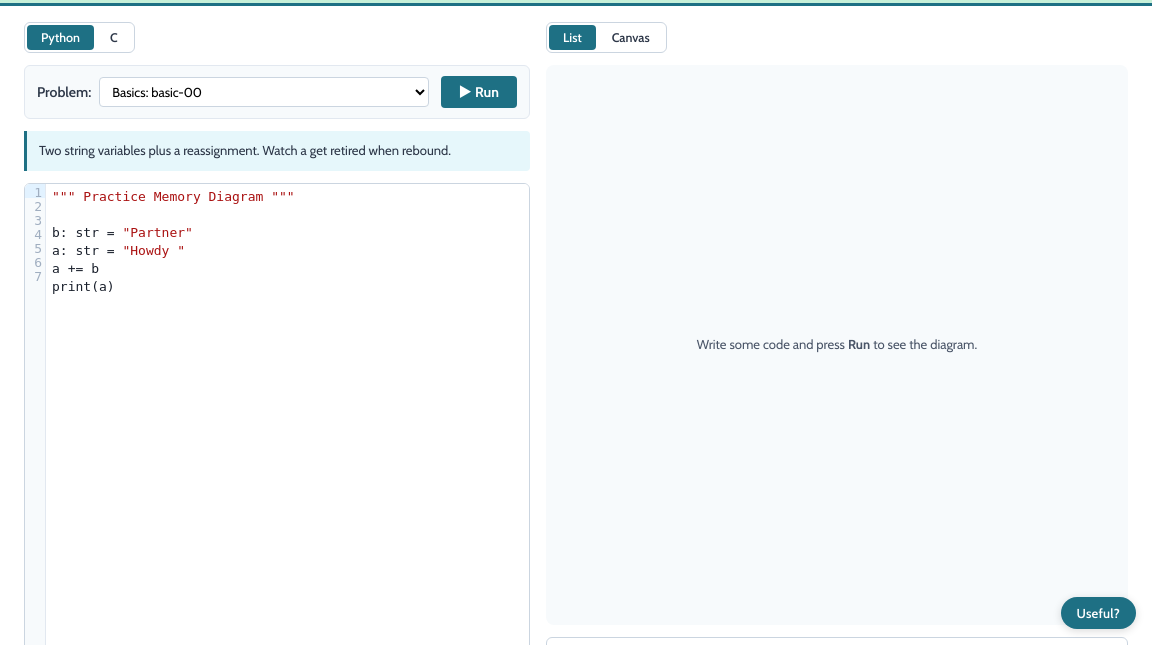
Scenario: App UX — Run flow and Prev/Next bounds › stepping to the end disables Next; Prev is enabled
This screenshot has width=1152, height=645.
Click the button "▶ Run".
click(479, 92)  # box left=440, top=76, right=517, bottom=108
(page scrolled)
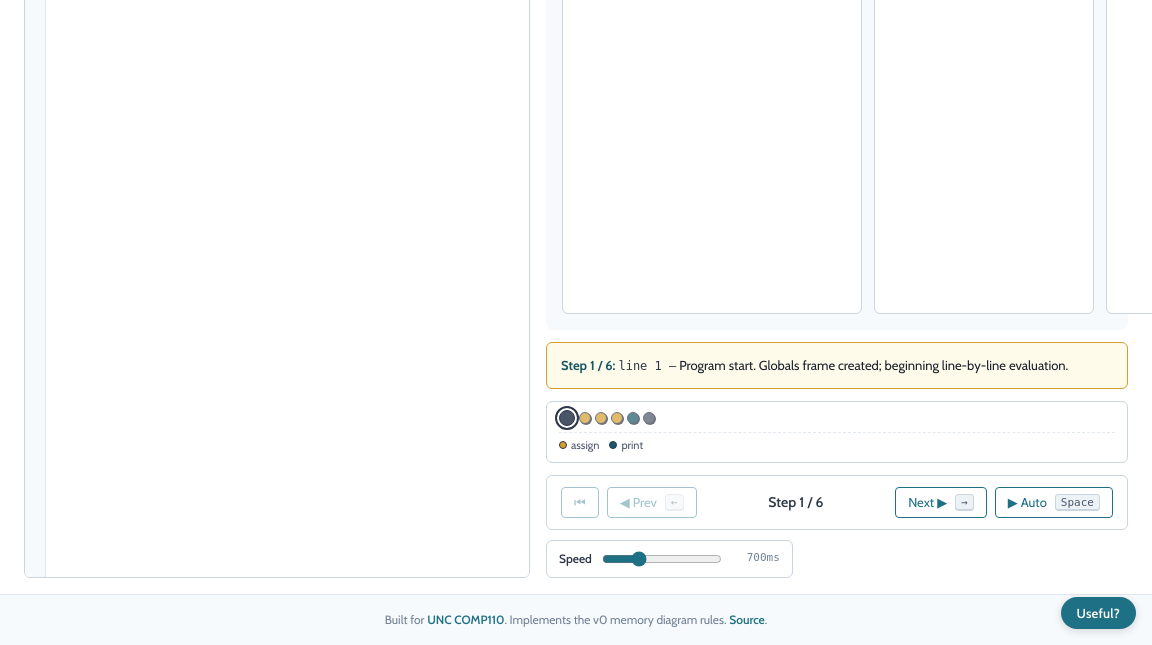
Click the button "Next ▶ →".
click(941, 502)  # box left=895, top=487, right=987, bottom=518
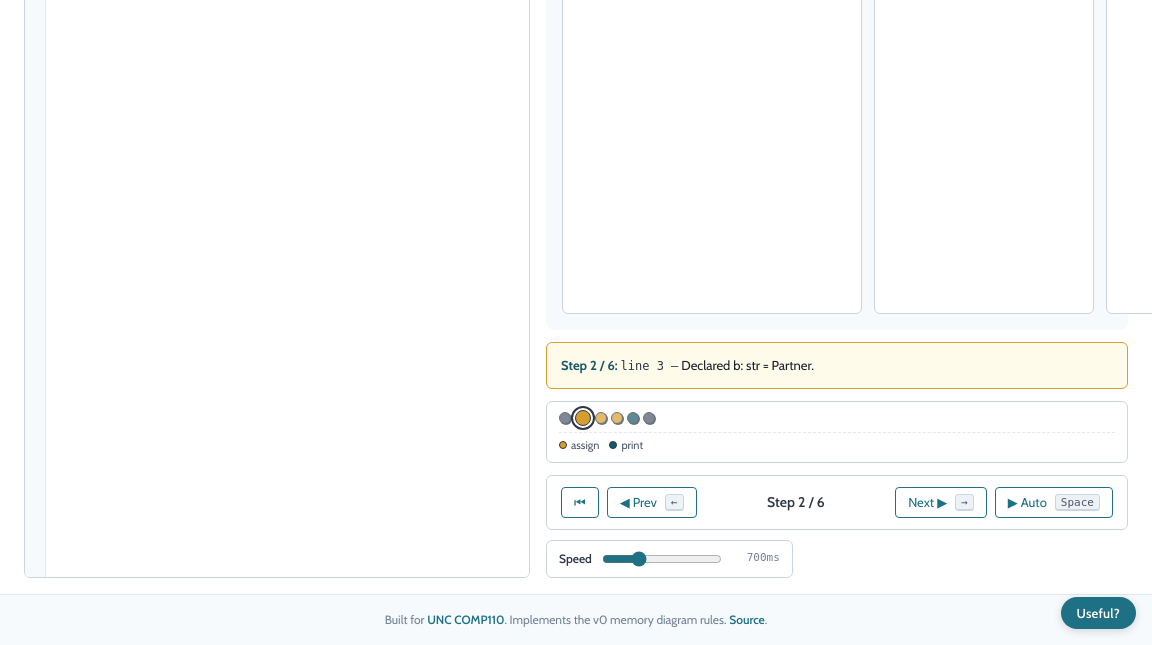
Click the button "Next ▶ →".
click(941, 502)  # box left=895, top=487, right=987, bottom=518
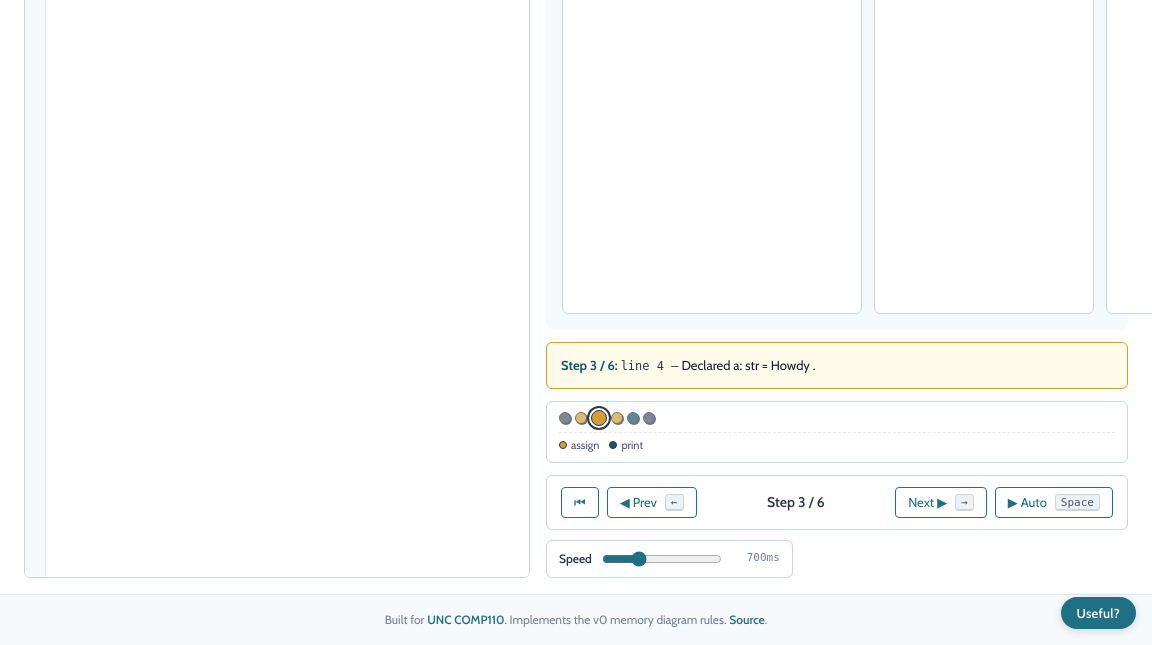
Click the button "Next ▶ →".
click(941, 502)  # box left=895, top=487, right=987, bottom=518
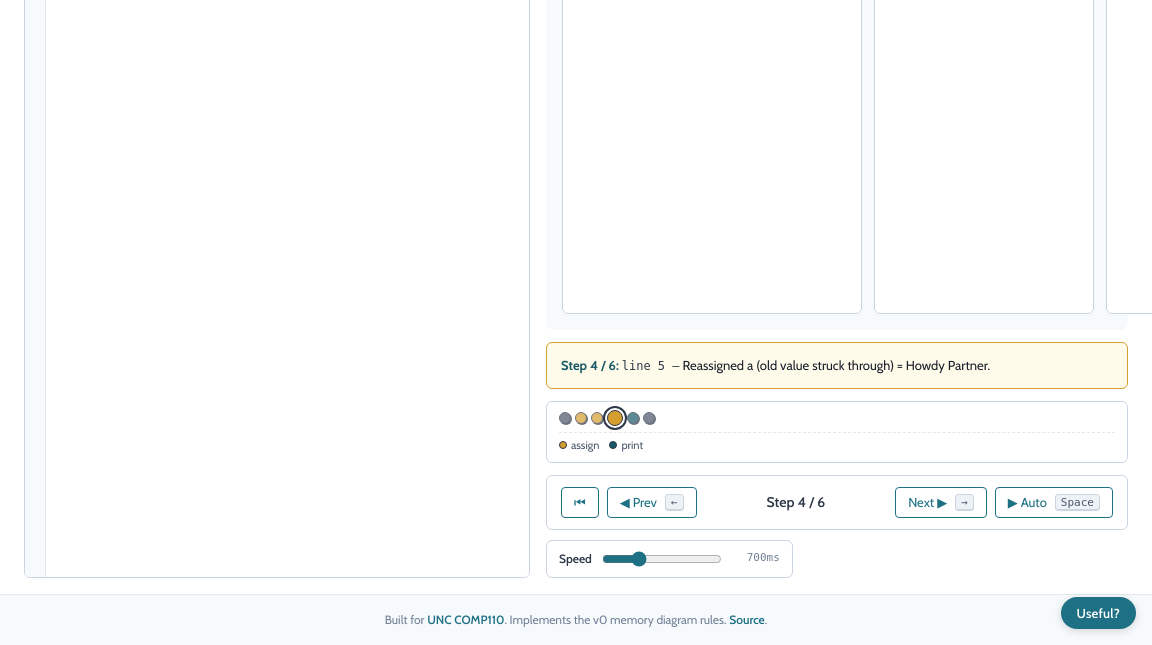
Click the button "Next ▶ →".
click(941, 502)  # box left=895, top=487, right=987, bottom=518
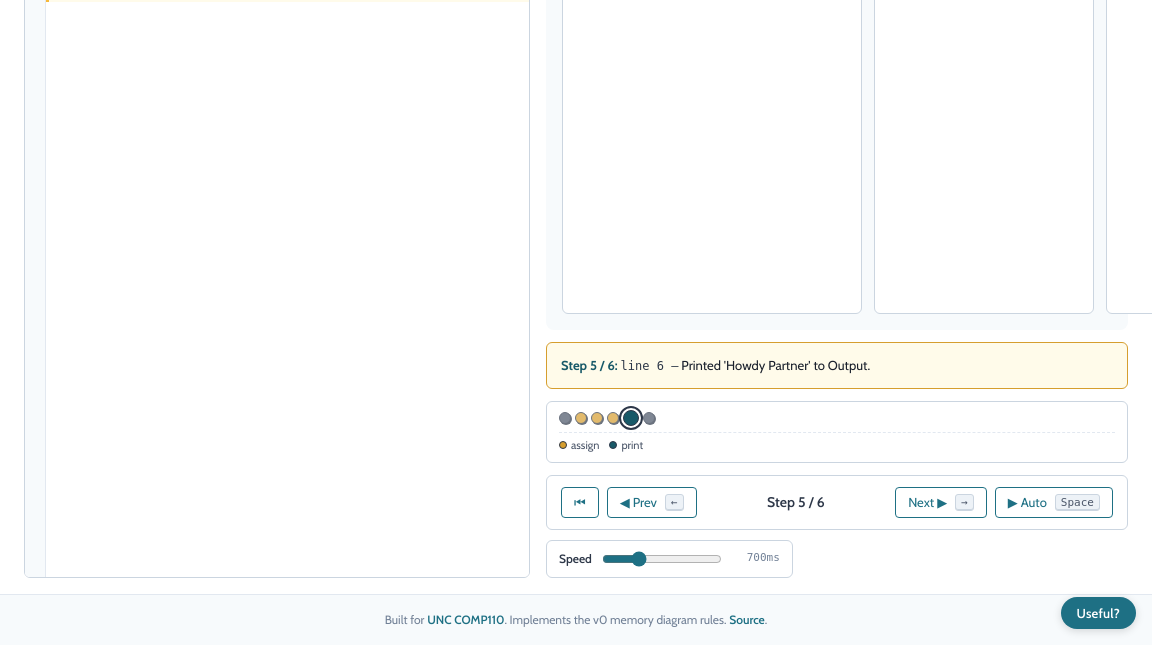
Click the button "Next ▶ →".
click(941, 502)  # box left=895, top=487, right=987, bottom=518
(page scrolled)
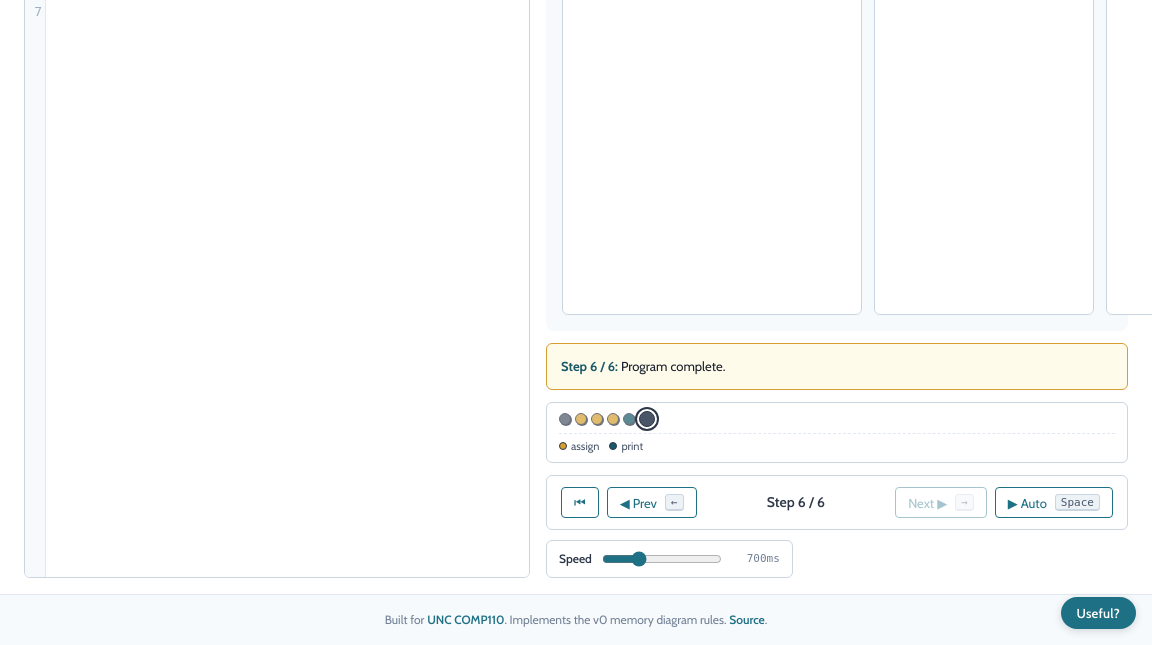
Check: the button "◀ Prev ←" is enabled, box left=607, top=487, right=696, bottom=518
Check: the button "Next ▶ →" is disabled, box left=895, top=487, right=987, bottom=518
